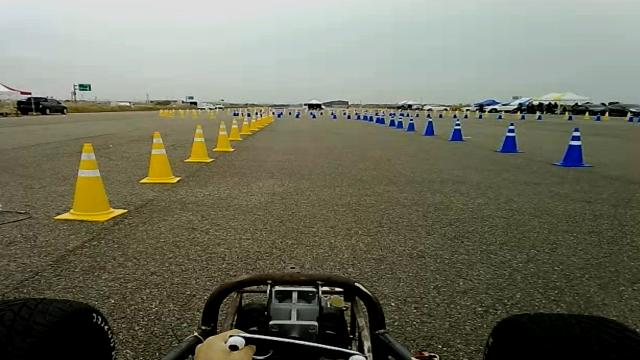blue cone: (552, 127, 594, 167), (494, 122, 526, 153), (448, 118, 467, 141), (422, 114, 436, 136), (406, 112, 417, 132), (395, 112, 404, 129), (379, 113, 388, 124), (391, 112, 396, 126)
yellow cone: (53, 142, 128, 222), (139, 131, 182, 183), (184, 124, 216, 162), (213, 120, 235, 152), (229, 121, 243, 140), (240, 115, 253, 135), (248, 116, 260, 130), (256, 112, 266, 128)
